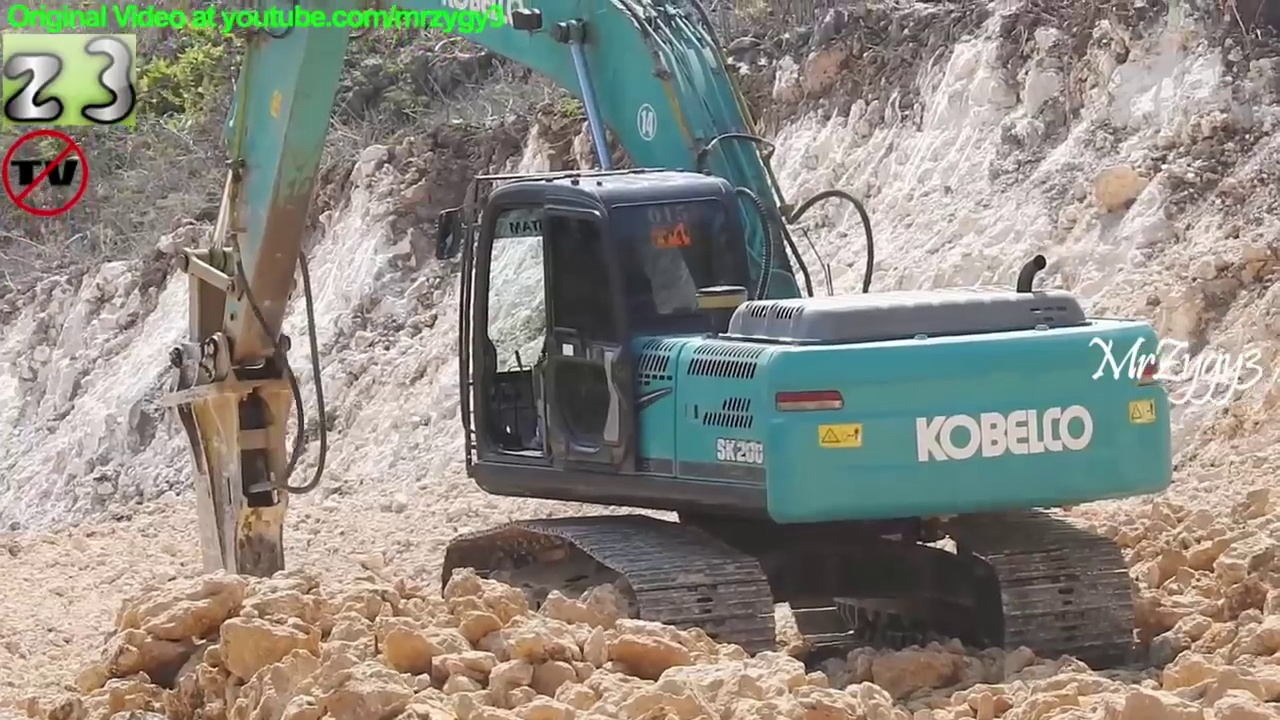excavator: (147, 1, 1189, 696)
